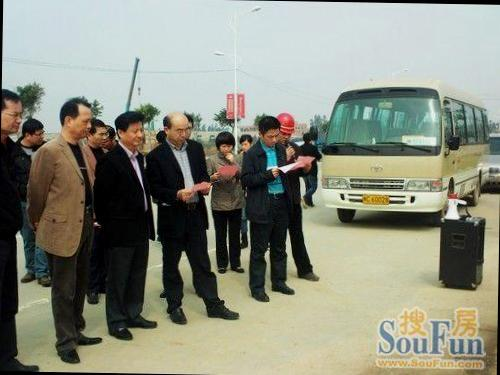no_helmet: (57, 96, 94, 142), (114, 110, 149, 154), (161, 107, 196, 148), (2, 85, 26, 135), (82, 116, 110, 152), (20, 116, 48, 151), (256, 113, 283, 148), (212, 128, 237, 158), (239, 131, 256, 155)
